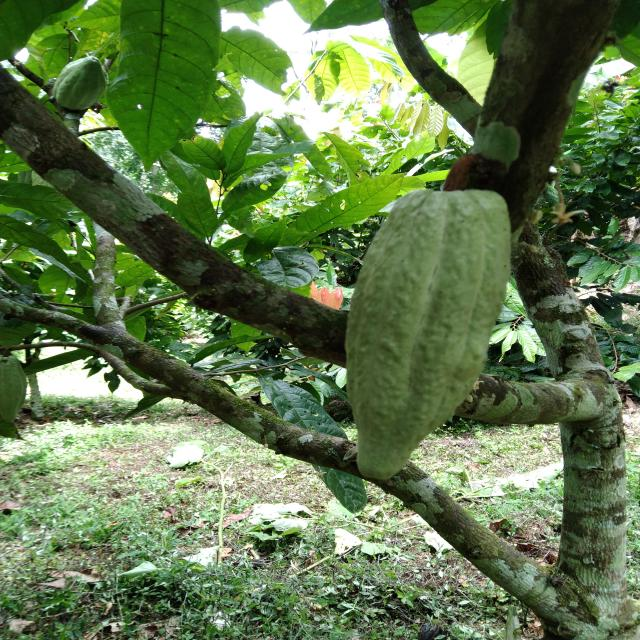Sana: (341, 190, 509, 484)
